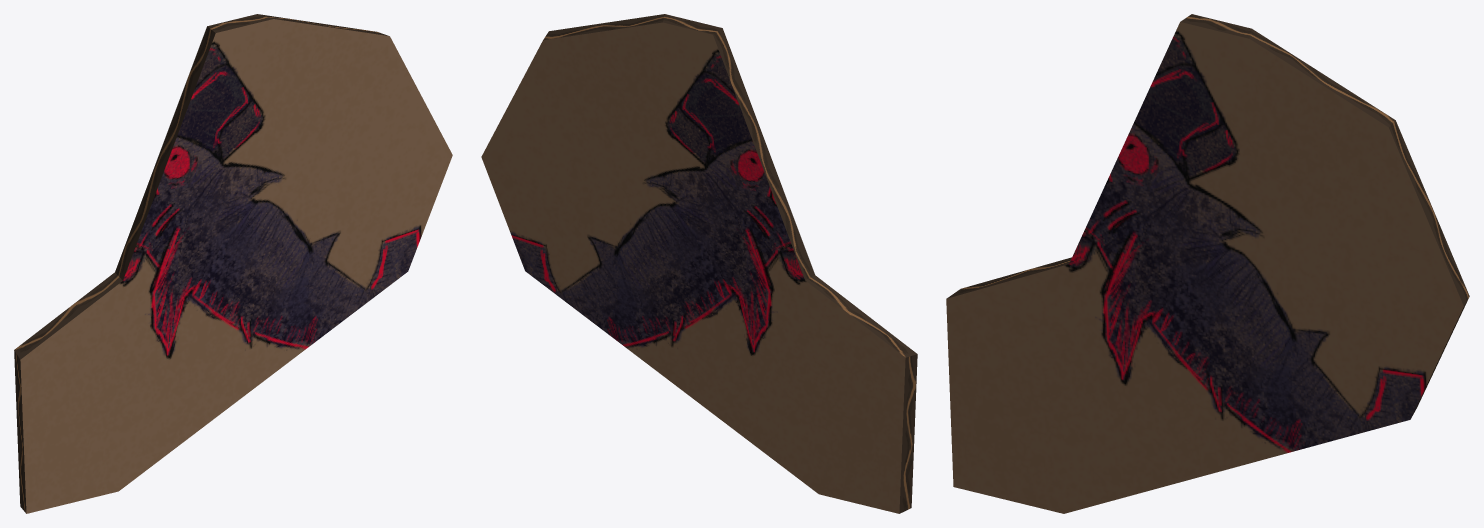
File: HammerheadTHIN3.fbx
The picture shows the model from 3 angles, left to right: view 1: azimuth 30°, elevation 25°; view 2: azimuth 150°, elevation 25°; view 3: azimuth 330°, elevation 25°; orthographic projection. The views are drawn at different scales.
Visible parts, largest first — view 1: HammerHead3; view 2: HammerHead3; view 3: HammerHead3.
Boxes of the visible parts, <box> form: HammerHead3: <box>14,14,452,513</box>; HammerHead3: <box>481,14,917,513</box>; HammerHead3: <box>946,14,1469,513</box>.
Size of the model in its own units: 4.57 by 4.39 by 0.1686.
